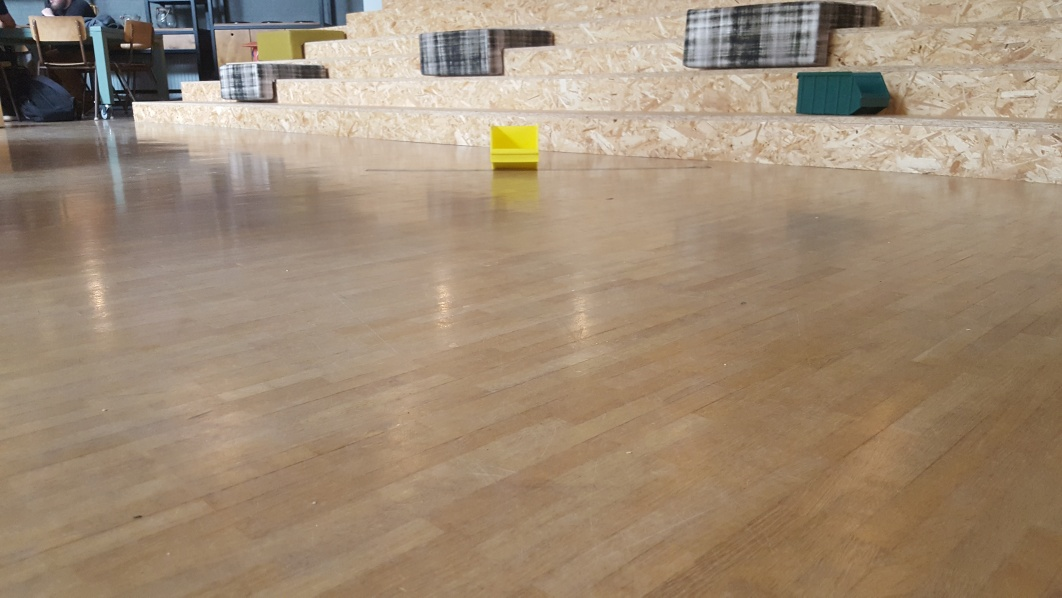tray: (788, 66, 894, 112), (484, 119, 536, 171)
